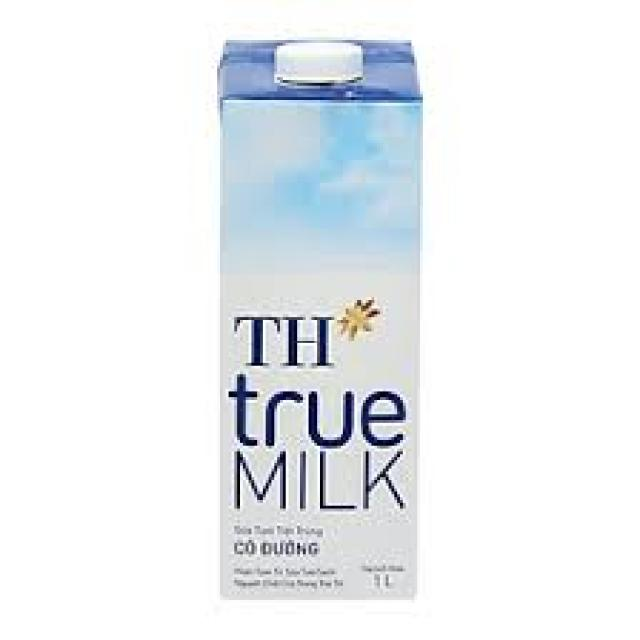non_white_jug: (193, 16, 433, 618)
